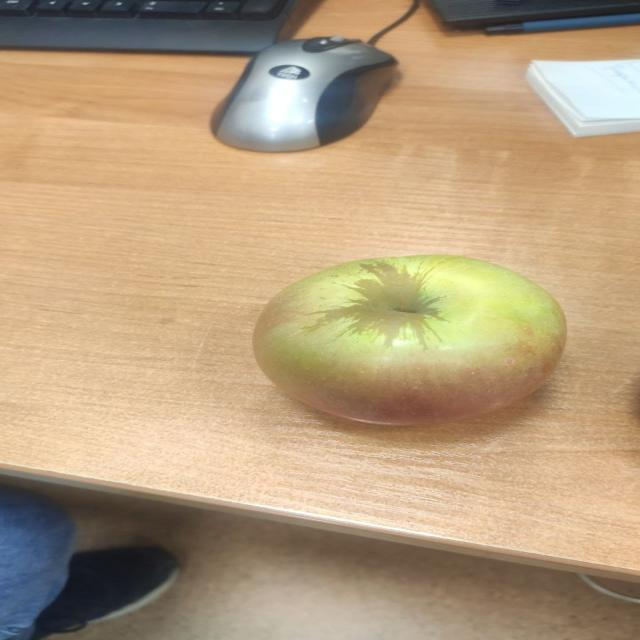Fresh Apple: (248, 250, 574, 435)
